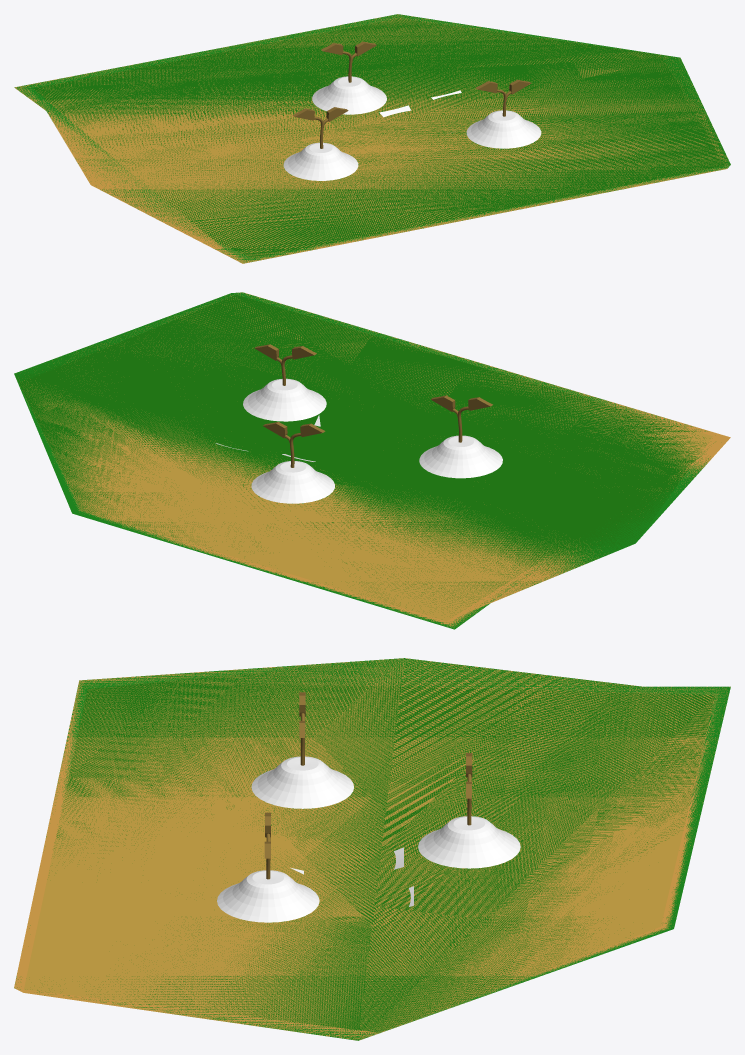
Rendered from task134.glb.
3 views of the same model, one above another, from view 1: azimuth 30°, elevation 25°; view 2: azimuth 150°, elevation 25°; view 3: azimuth 270°, elevation 25° (orthographic). The views are drawn at different scales.
Visible parts, largest first — view 1: task134; view 2: task134; view 3: task134.
Boxes of the visible parts, box(x1,y1,x2,y2) form: task134: box(14, 14, 730, 263); task134: box(14, 292, 730, 629); task134: box(14, 658, 730, 1040).
Bounding box in the file's own units: 2.2 × 0.2542 × 1.75.
